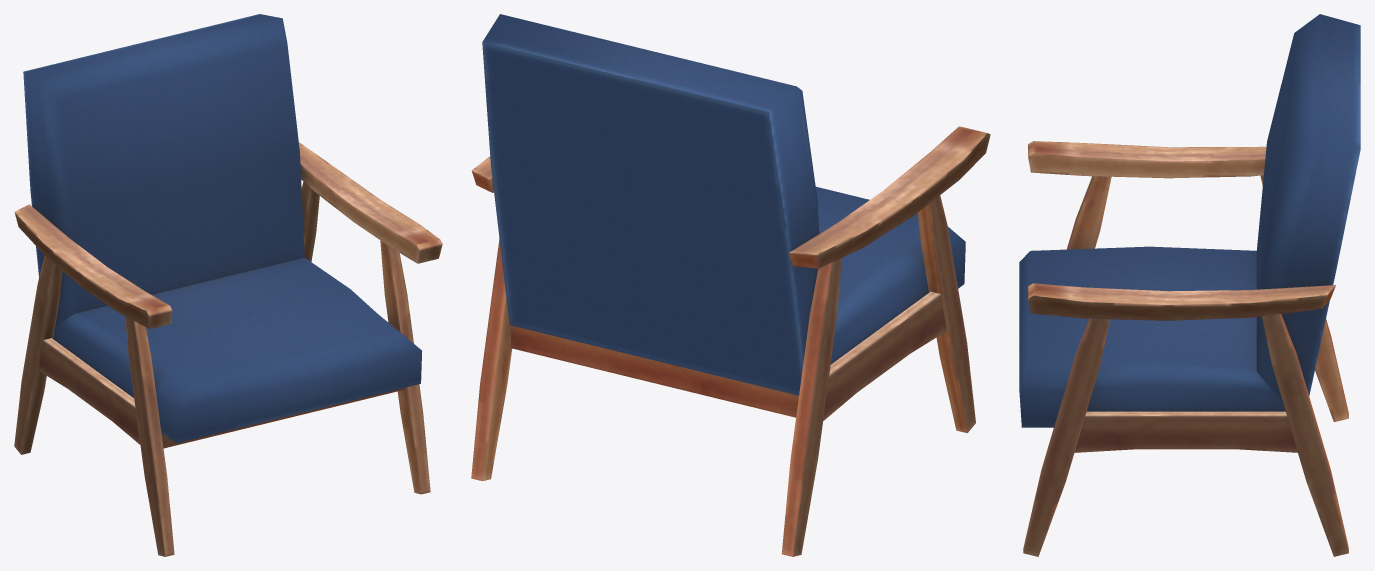
Rendered from armchair21.glb.
3 views of the same model, side by side, from view 1: azimuth 30°, elevation 25°; view 2: azimuth 150°, elevation 25°; view 3: azimuth 270°, elevation 25° (orthographic). The views are drawn at different scales.
Visible parts, largest first — view 1: Armchair_Armchair_0; view 2: Armchair_Armchair_0; view 3: Armchair_Armchair_0.
Boxes of the visible parts, bbox=[...] form: Armchair_Armchair_0: bbox=[14, 14, 442, 556]; Armchair_Armchair_0: bbox=[471, 14, 990, 556]; Armchair_Armchair_0: bbox=[1019, 14, 1360, 556].
Size of the model in its own units: 113 by 135 by 102.
1 material, 1 textured.
